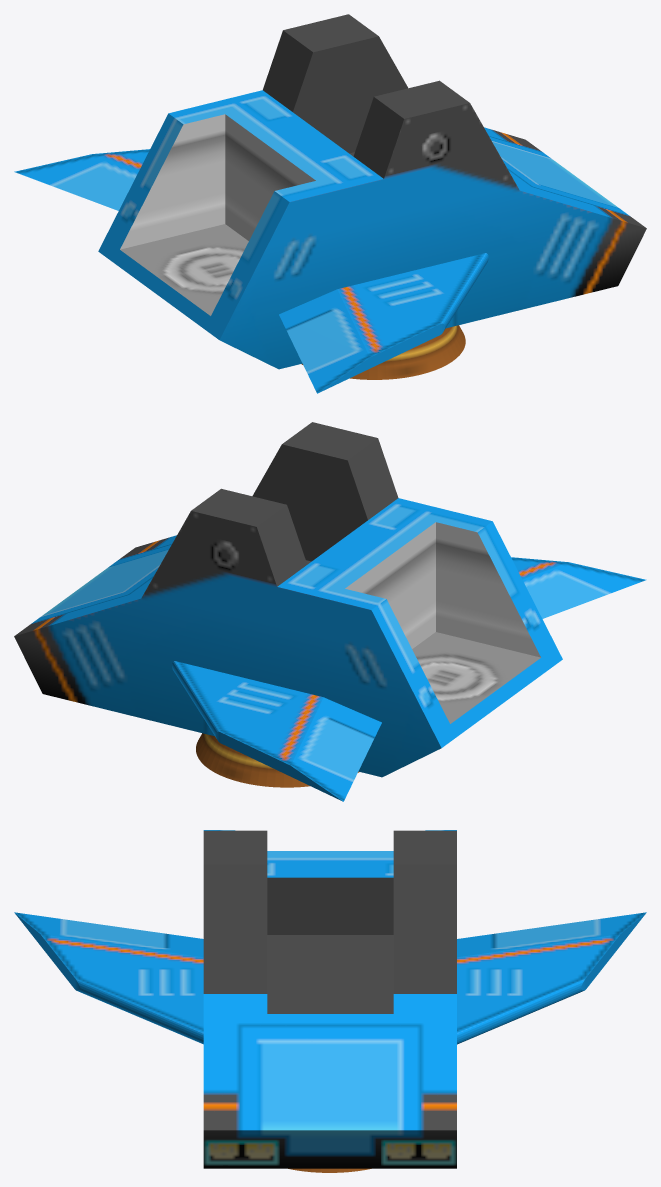
The model's file is lem1i_alt.obj.
3 views of the same model, one above another, from view 1: azimuth 30°, elevation 25°; view 2: azimuth 150°, elevation 25°; view 3: azimuth 270°, elevation 25° (orthographic). The views are drawn at different scales.
Visible parts, largest first — view 1: Case_ColobotMesh_.001, Wings_concept_ColobotMesh_.003, Nozzle_new_Cylinder; view 2: Case_ColobotMesh_.001, Wings_concept_ColobotMesh_.003, Nozzle_new_Cylinder; view 3: Case_ColobotMesh_.001, Wings_concept_ColobotMesh_.003.
Boxes of the visible parts, x1,y1,x2,y2 form: Case_ColobotMesh_.001: (98,14,646,369); Wings_concept_ColobotMesh_.003: (14,149,488,393); Nozzle_new_Cylinder: (301,325,465,379); Case_ColobotMesh_.001: (14,422,562,777); Wings_concept_ColobotMesh_.003: (172,557,646,801); Nozzle_new_Cylinder: (196,733,359,787); Case_ColobotMesh_.001: (203,830,456,1168); Wings_concept_ColobotMesh_.003: (14,912,646,1044).
Bounding box in the file's own units: 8.14 × 4.99 × 10.
